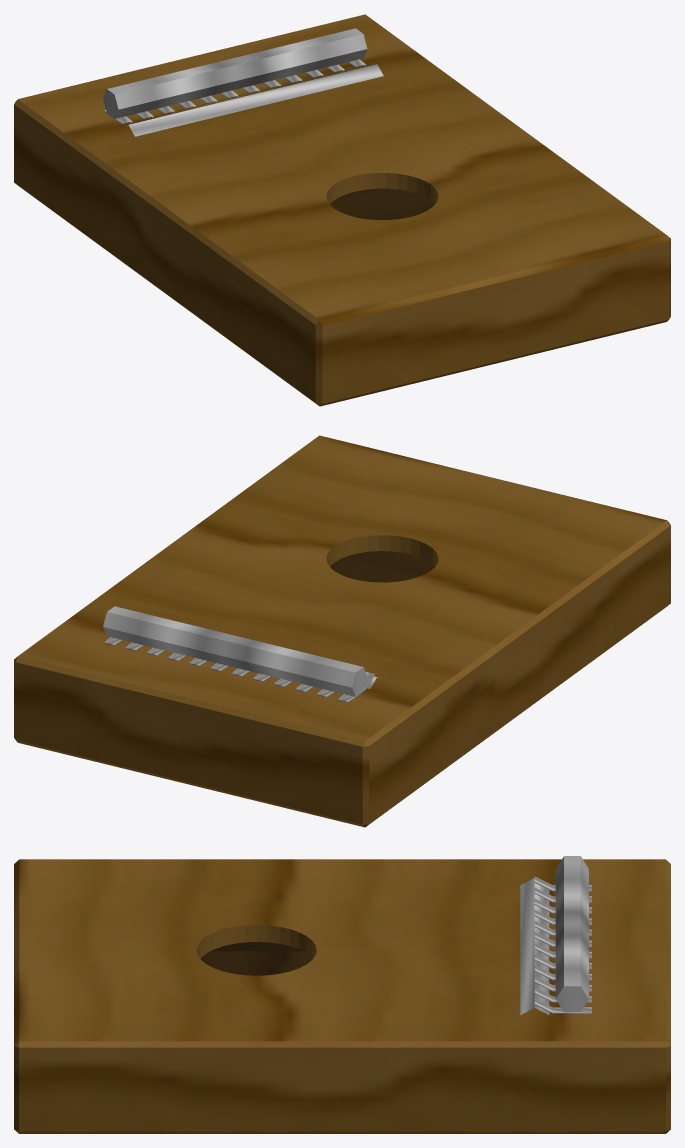
The model's file is Kalimba.obj.
The picture shows the model from 3 angles, top to bottom: view 1: azimuth 30°, elevation 25°; view 2: azimuth 150°, elevation 25°; view 3: azimuth 270°, elevation 25°; orthographic projection. The views are drawn at different scales.
Parts seen in each view (by area): view 1: Cube; view 2: Cube; view 3: Cube.
Boxes of the visible parts, x1=… form: Cube: x1=14, y1=14, x2=670, y2=406; Cube: x1=14, y1=435, x2=670, y2=827; Cube: x1=14, y1=856, x2=670, y2=1133.
Bounding box in the file's own units: 5.53 × 1.69 × 8.26.
1 material, 1 textured.
